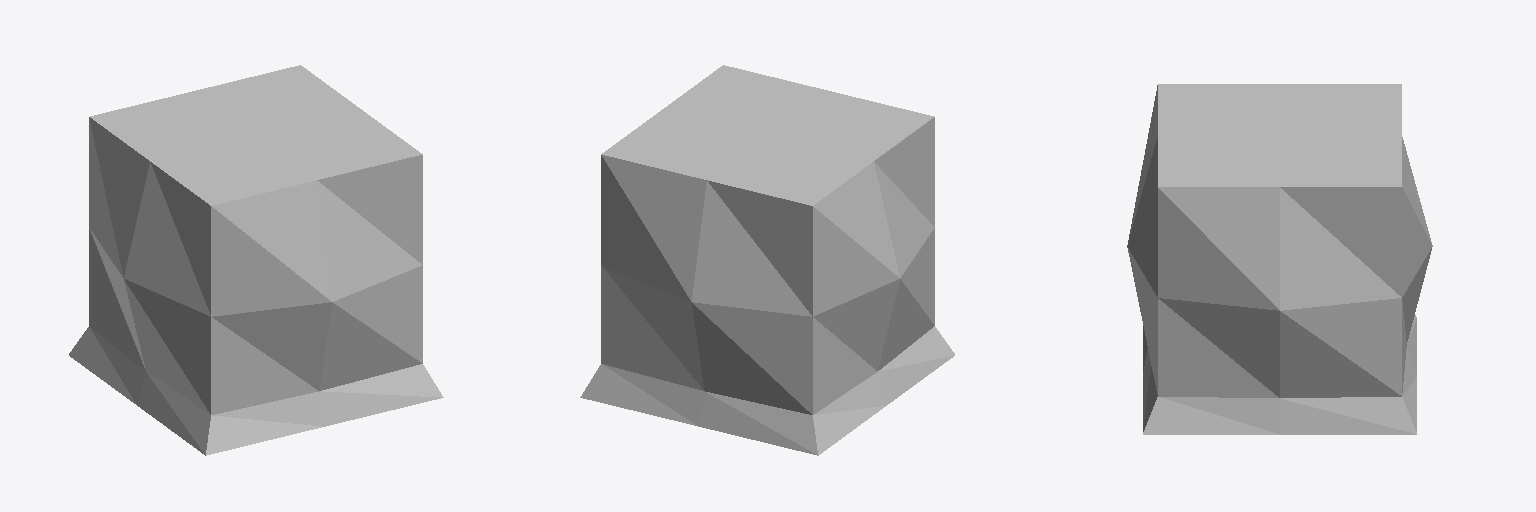
Rendered from Cave_wall_with_thick_low.obj.
3 views of the same model, side by side, from view 1: azimuth 30°, elevation 25°; view 2: azimuth 150°, elevation 25°; view 3: azimuth 270°, elevation 25° (orthographic).
Parts seen in each view (by area): view 1: cuboid; view 2: cuboid; view 3: cuboid.
Part boxes in pixels (x1,y1,x2,y2): cuboid: (69, 65, 443, 455); cuboid: (580, 65, 954, 455); cuboid: (1127, 84, 1432, 434).
Size of the model in its own units: 1.25 by 1.09 by 1.25.